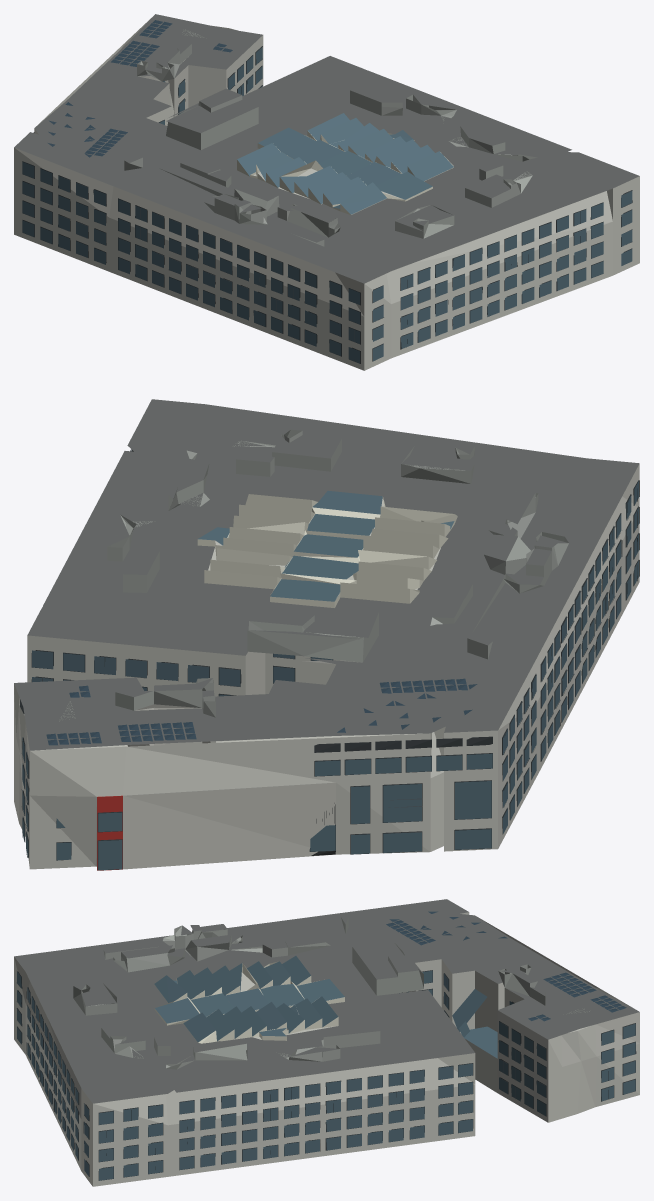
File: fire-station-willem.lod1.glb
3 views of the same model, one above another, from view 1: azimuth 30°, elevation 25°; view 2: azimuth 150°, elevation 25°; view 3: azimuth 270°, elevation 25° (orthographic). The views are drawn at different scales.
Parts seen in each view (by area): view 1: fire-station-willem; view 2: fire-station-willem; view 3: fire-station-willem.
Boxes of the visible parts, x1=… form: fire-station-willem: x1=14, y1=14, x2=639, y2=370; fire-station-willem: x1=14, y1=399, x2=639, y2=870; fire-station-willem: x1=14, y1=899, x2=639, y2=1186.
Bounding box in the file's own units: 94.51 × 22.29 × 122.
